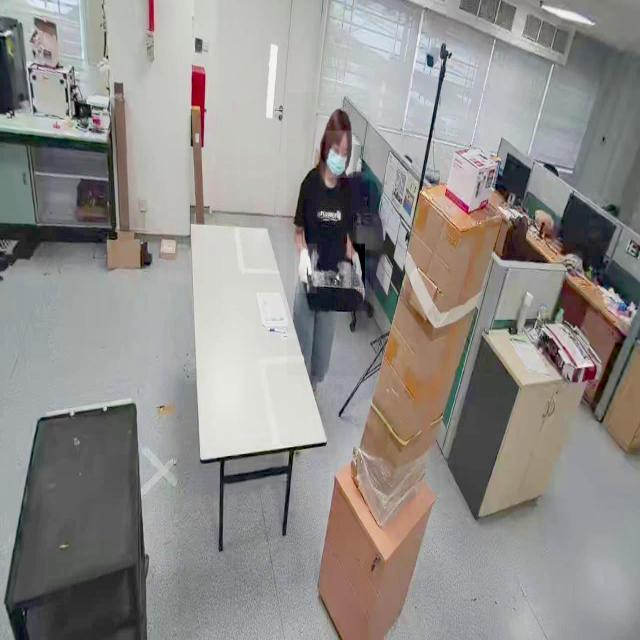face_mask: (325, 130, 353, 178)
hand_glove: (294, 244, 318, 294), (351, 243, 365, 289)
head_nohelmet: (326, 107, 352, 133)
person: (287, 92, 371, 377)
